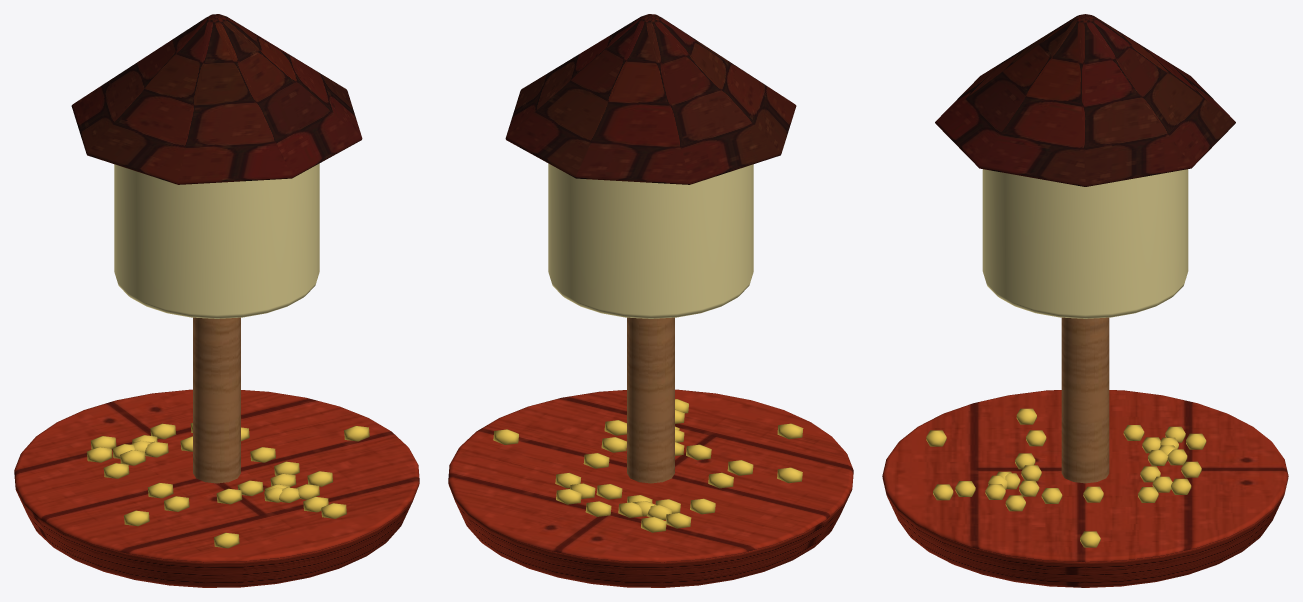
Rendered from feeder.glb.
The picture shows the model from 3 angles, left to right: view 1: azimuth 30°, elevation 25°; view 2: azimuth 150°, elevation 25°; view 3: azimuth 270°, elevation 25°; orthographic projection.
Visible parts, largest first — view 1: tray, roof, hopper, post; view 2: tray, roof, hopper, post; view 3: tray, roof, hopper, post.
Boxes of the visible parts, <box> form: tray: <box>14,389,419,587</box>; roof: <box>71,14,362,184</box>; hopper: <box>114,163,319,318</box>; post: <box>193,317,240,483</box>; tray: <box>448,389,853,587</box>; roof: <box>505,14,796,184</box>; hopper: <box>548,163,753,318</box>; post: <box>627,317,674,483</box>; tray: <box>882,390,1288,587</box>; roof: <box>935,14,1235,186</box>; hopper: <box>982,169,1188,318</box>; post: <box>1061,317,1109,483</box>.
Size of the model in its own units: 1.19 by 1.59 by 1.19.
Materials: 5 (3 with a texture image).
